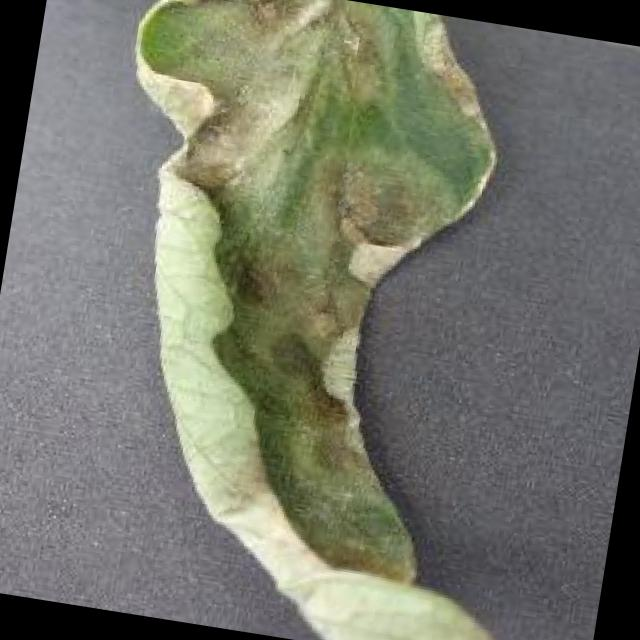Tomato_Late_Blight: (34, 0, 627, 640)
